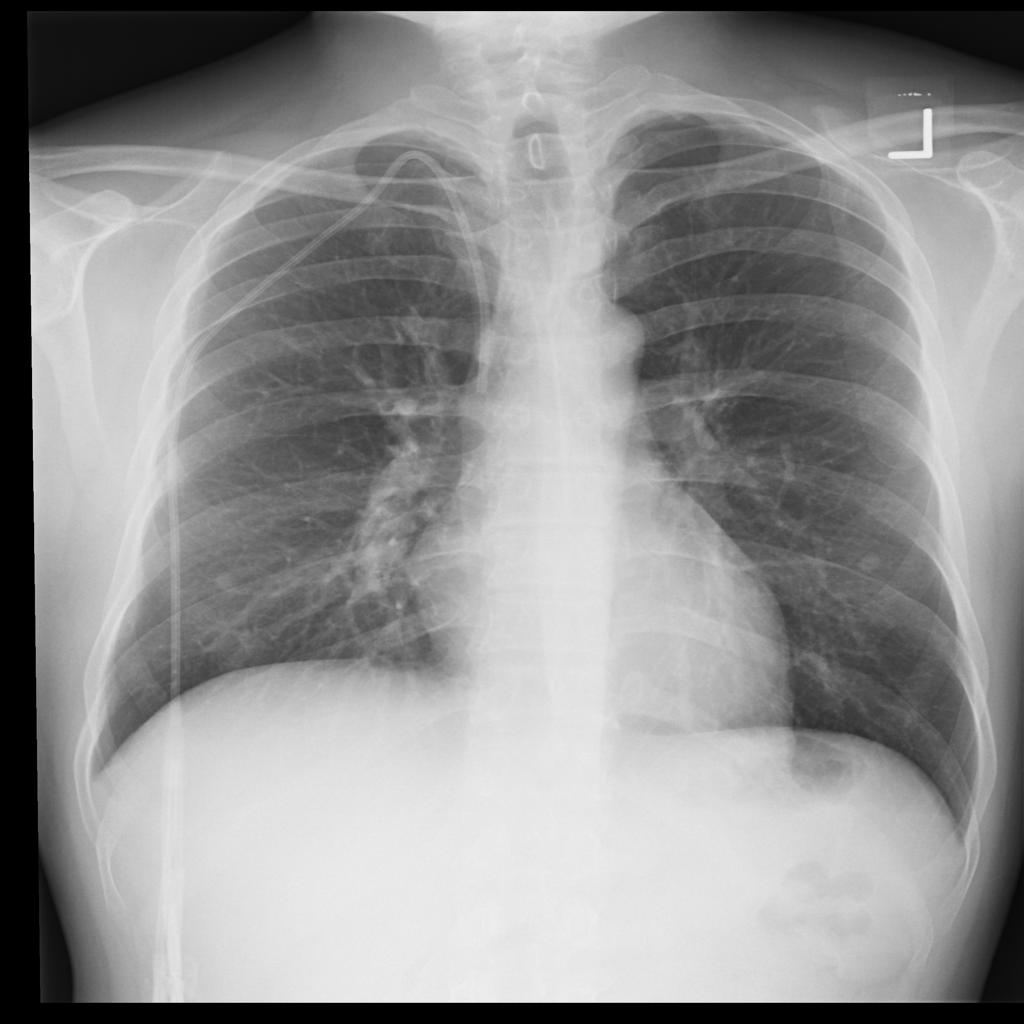nodule: (200, 558, 254, 604), (846, 538, 901, 583)
